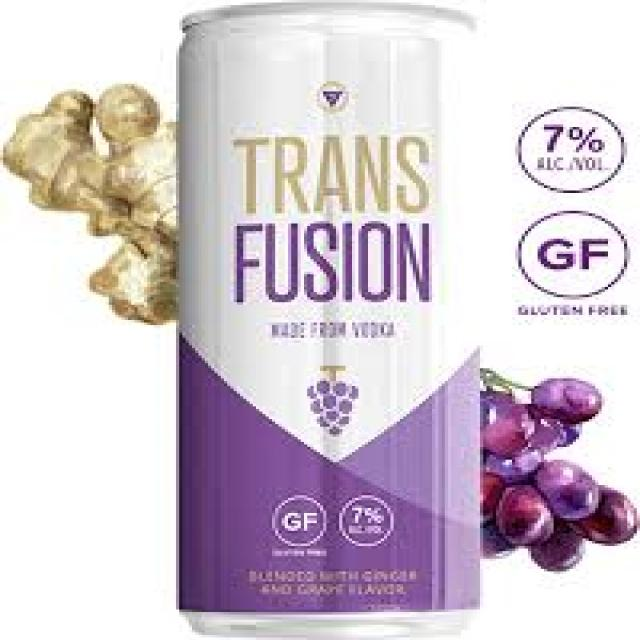Cans: (166, 2, 492, 640)
